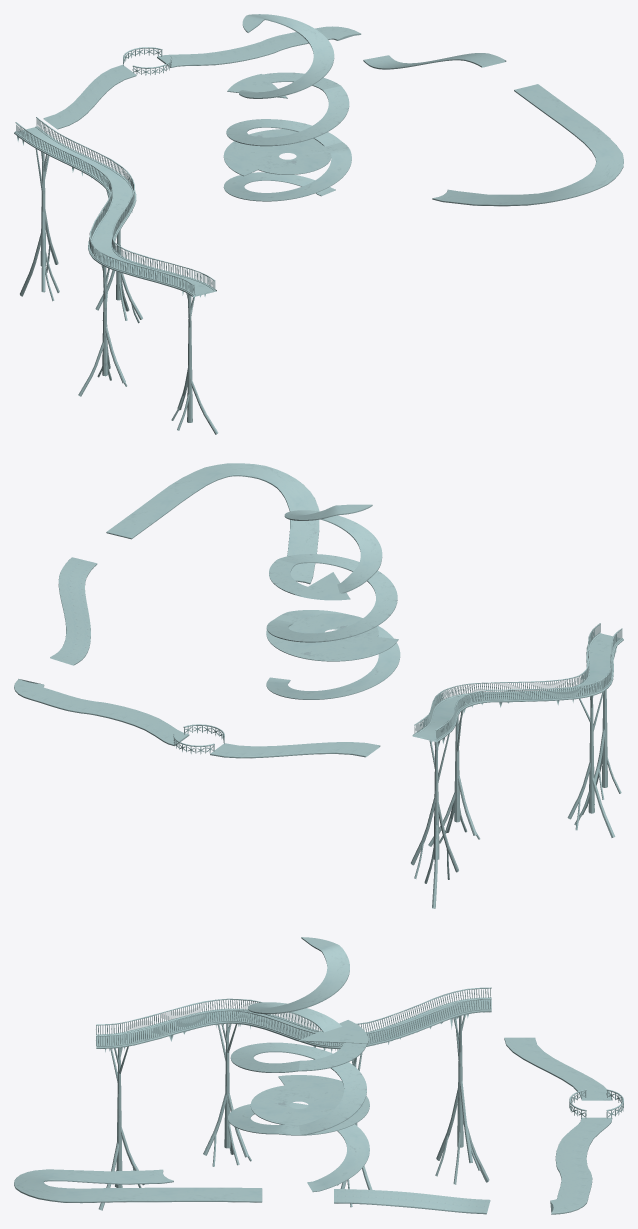
Rendered from field_winter_road.fbx.
The picture shows the model from 3 angles, top to bottom: view 1: azimuth 30°, elevation 25°; view 2: azimuth 150°, elevation 25°; view 3: azimuth 270°, elevation 25°; orthographic projection. The views are drawn at different scales.
Parts seen in each view (by area): view 1: field_winter_road1, field_winter_road3, field_winter_road4, field_winter_road2, field_winter_ice_pillar, field_winter_road5, field_winter_road6; view 2: field_winter_road3, field_winter_road1, field_winter_road4, field_winter_road2, field_winter_ice_pillar, field_winter_road5, field_winter_road6; view 3: field_winter_road1, field_winter_road3, field_winter_road4, field_winter_road2, field_winter_ice_pillar, field_winter_road5, field_winter_road6.
Boxes of the visible parts, <box> form: field_winter_road1: <box>14,117,216,299</box>; field_winter_road3: <box>363,53,623,206</box>; field_winter_road4: <box>223,129,351,201</box>; field_winter_road2: <box>43,26,361,129</box>; field_winter_ice_pillar: <box>20,149,218,434</box>; field_winter_road5: <box>226,72,349,146</box>; field_winter_road6: <box>227,14,334,98</box>; field_winter_road3: <box>50,463,319,665</box>; field_winter_road1: <box>412,623,623,747</box>; field_winter_road4: <box>266,610,400,699</box>; field_winter_road2: <box>14,679,380,758</box>; field_winter_ice_pillar: <box>411,647,621,908</box>; field_winter_road5: <box>266,554,397,642</box>; field_winter_road6: <box>284,504,382,600</box>; field_winter_road1: <box>96,987,491,1052</box>; field_winter_road3: <box>14,1169,490,1214</box>; field_winter_road4: <box>227,1075,369,1192</box>; field_winter_road2: <box>504,1037,623,1214</box>; field_winter_ice_pillar: <box>98,1015,489,1210</box>; field_winter_road5: <box>230,1042,366,1134</box>; field_winter_road6: <box>247,937,368,1044</box>.
Size of the model in its own units: 5316 by 3287 by 5349.
1 material, 1 textured.
